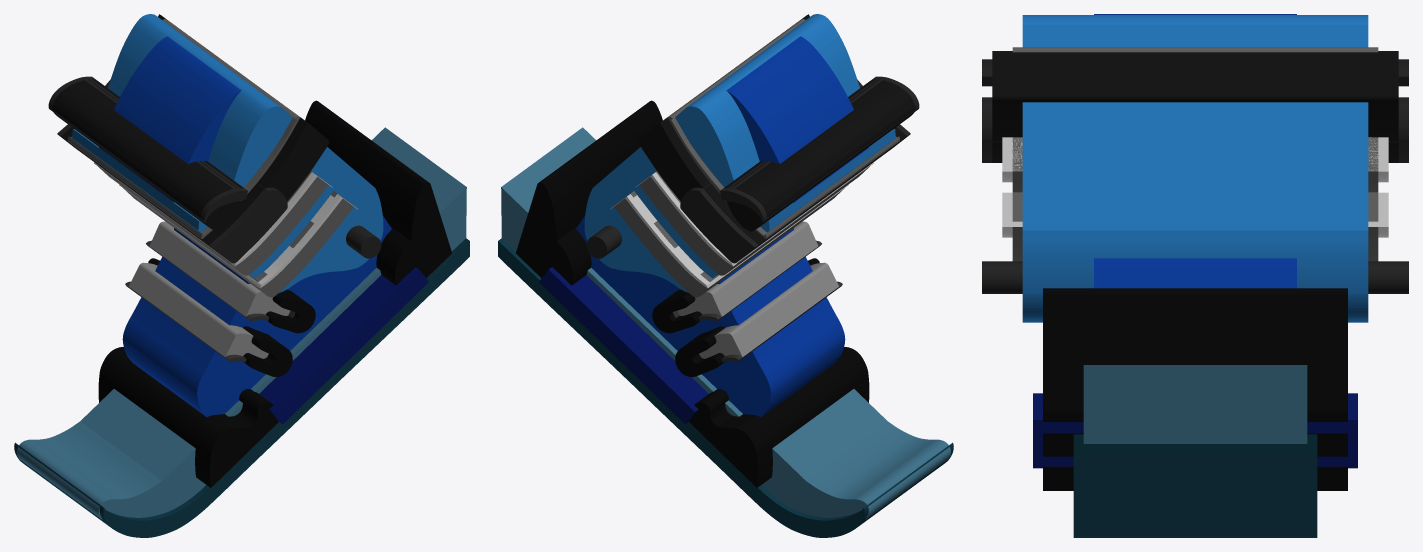
The picture shows the model from 3 angles, left to right: view 1: azimuth 30°, elevation 25°; view 2: azimuth 150°, elevation 25°; view 3: azimuth 270°, elevation 25°; orthographic projection. The views are drawn at different scales.
Visible parts, largest first — view 1: U+1F3BF_layer01_obj00, U+1F3BF_layer07_obj00, U+1F3BF_layer00_obj01, U+1F3BF_layer00_obj00, U+1F3BF_layer05_obj02, U+1F3BF_layer10_obj01, U+1F3BF_layer05_obj03, U+1F3BF_layer06_obj00, U+1F3BF_layer02_obj00, U+1F3BF_layer03_obj01, U+1F3BF_layer03_obj00, U+1F3BF_layer10_obj00 (+10 smaller); view 2: U+1F3BF_layer01_obj00, U+1F3BF_layer07_obj00, U+1F3BF_layer00_obj01, U+1F3BF_layer00_obj00, U+1F3BF_layer05_obj02, U+1F3BF_layer10_obj01, U+1F3BF_layer05_obj03, U+1F3BF_layer06_obj00, U+1F3BF_layer02_obj00, U+1F3BF_layer03_obj01, U+1F3BF_layer03_obj00, U+1F3BF_layer10_obj00 (+10 smaller); view 3: U+1F3BF_layer07_obj00, U+1F3BF_layer05_obj02, U+1F3BF_layer10_obj00, U+1F3BF_layer02_obj00, U+1F3BF_layer01_obj00, U+1F3BF_layer00_obj01, U+1F3BF_layer06_obj00, U+1F3BF_layer11_obj01, U+1F3BF_layer08_obj02, U+1F3BF_layer05_obj03, U+1F3BF_layer05_obj05, U+1F3BF_layer11_obj00 (+5 smaller).
Boxes of the visible parts, x1=… form: U+1F3BF_layer01_obj00: x1=17, y1=127, x2=466, y2=519; U+1F3BF_layer07_obj00: x1=72, y1=14, x2=383, y2=292; U+1F3BF_layer00_obj01: x1=122, y1=216, x2=391, y2=416; U+1F3BF_layer00_obj00: x1=99, y1=36, x2=241, y2=202; U+1F3BF_layer05_obj02: x1=305, y1=100, x2=451, y2=285; U+1F3BF_layer10_obj01: x1=52, y1=79, x2=243, y2=231; U+1F3BF_layer05_obj03: x1=98, y1=347, x2=278, y2=487; U+1F3BF_layer06_obj00: x1=259, y1=267, x2=428, y2=424; U+1F3BF_layer02_obj00: x1=14, y1=238, x2=469, y2=537; U+1F3BF_layer03_obj01: x1=129, y1=262, x2=268, y2=358; U+1F3BF_layer03_obj00: x1=149, y1=221, x2=290, y2=316; U+1F3BF_layer10_obj00: x1=61, y1=14, x2=329, y2=244; U+1F3BF_layer01_obj00: x1=501, y1=127, x2=950, y2=519; U+1F3BF_layer07_obj00: x1=584, y1=14, x2=895, y2=292; U+1F3BF_layer00_obj01: x1=576, y1=216, x2=845, y2=416; U+1F3BF_layer00_obj00: x1=726, y1=36, x2=868, y2=202; U+1F3BF_layer05_obj02: x1=516, y1=100, x2=662, y2=285; U+1F3BF_layer10_obj01: x1=724, y1=79, x2=915, y2=231; U+1F3BF_layer05_obj03: x1=689, y1=347, x2=869, y2=487; U+1F3BF_layer06_obj00: x1=539, y1=267, x2=708, y2=424; U+1F3BF_layer02_obj00: x1=498, y1=238, x2=953, y2=537; U+1F3BF_layer03_obj01: x1=699, y1=262, x2=838, y2=358; U+1F3BF_layer03_obj00: x1=677, y1=221, x2=818, y2=316; U+1F3BF_layer10_obj00: x1=638, y1=14, x2=906, y2=244; U+1F3BF_layer07_obj00: x1=1022, y1=15, x2=1368, y2=322; U+1F3BF_layer05_obj02: x1=1043, y1=288, x2=1347, y2=421; U+1F3BF_layer10_obj00: x1=992, y1=51, x2=1398, y2=162; U+1F3BF_layer02_obj00: x1=1073, y1=434, x2=1317, y2=537; U+1F3BF_layer01_obj00: x1=1083, y1=365, x2=1307, y2=443; U+1F3BF_layer00_obj01: x1=1094, y1=258, x2=1296, y2=288; U+1F3BF_layer06_obj00: x1=1033, y1=393, x2=1357, y2=468; U+1F3BF_layer11_obj01: x1=982, y1=261, x2=1408, y2=293; U+1F3BF_layer08_obj02: x1=1012, y1=47, x2=1378, y2=52; U+1F3BF_layer05_obj03: x1=1043, y1=466, x2=1347, y2=490; U+1F3BF_layer05_obj05: x1=1043, y1=433, x2=1347, y2=456; U+1F3BF_layer11_obj00: x1=982, y1=97, x2=1408, y2=162.
Size of the model in its own units: 0.2863 by 0.3115 by 0.21.
